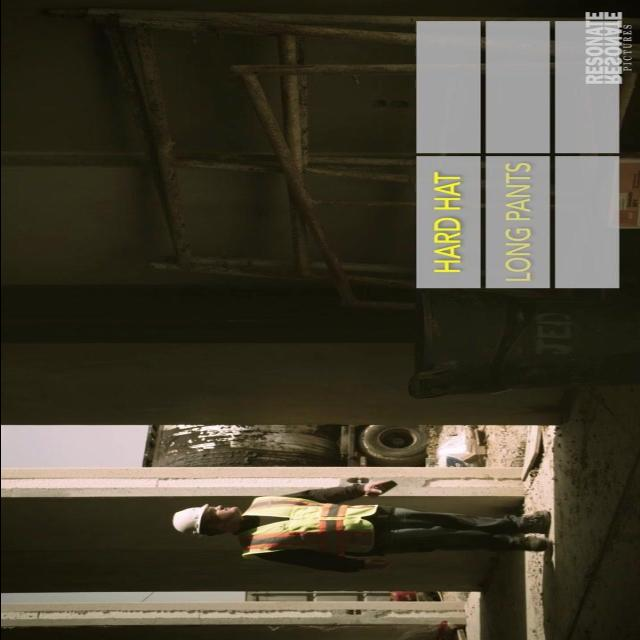helmet: (164, 501, 217, 545)
jacket: (227, 492, 381, 568)
